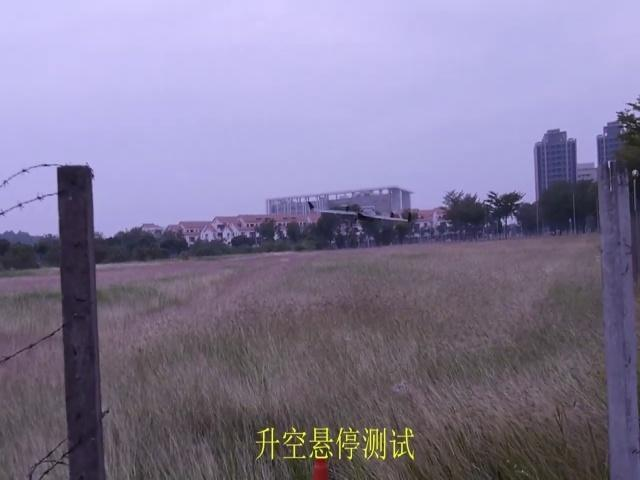Airplane: (308, 199, 412, 225)
